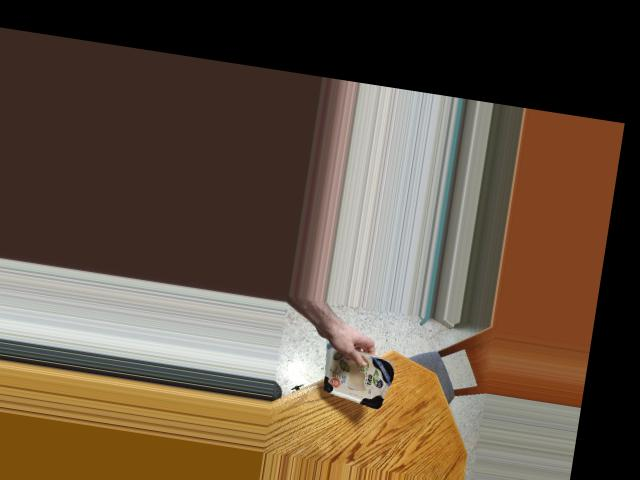cheese: (304, 342, 399, 409)
